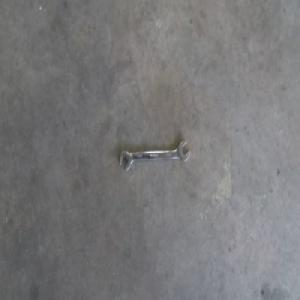Wrench: (119, 142, 189, 172)
